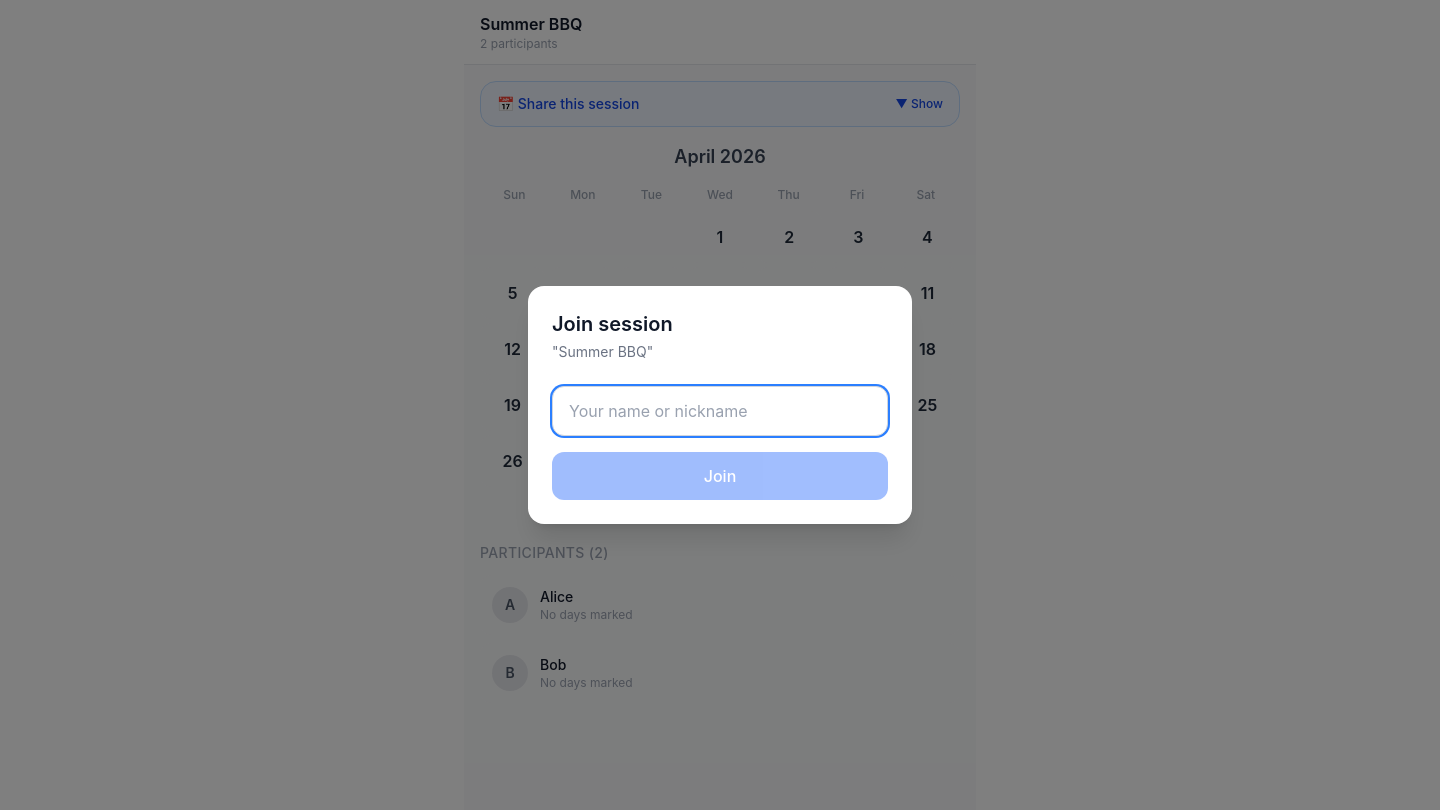
Scenario: Session › removes JoinPrompt after joinSession resolves
Type "Charlie" into the field.
click(720, 411); type("Charlie")  # box 552,386 -> 888,436
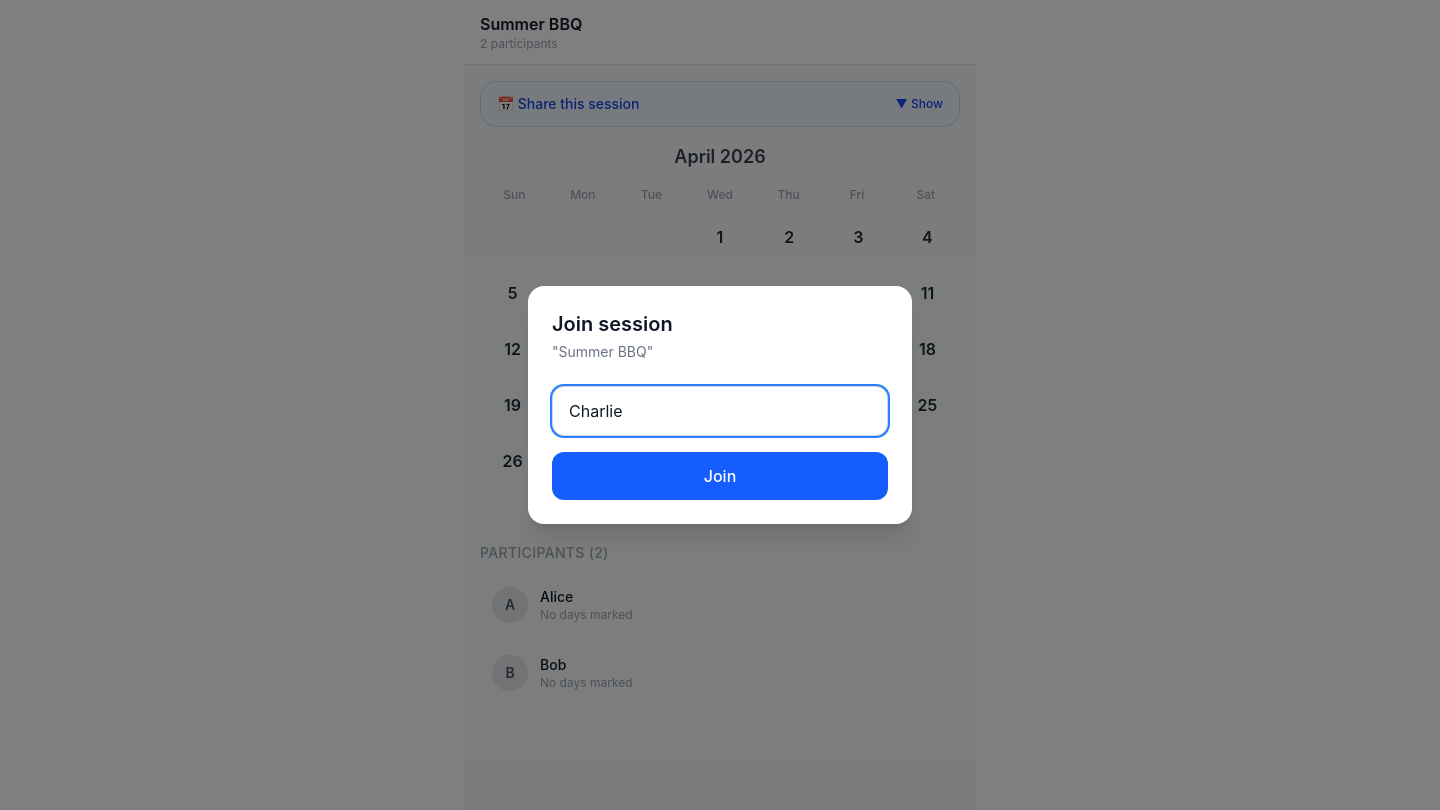
Click the button "Join".
click(720, 476)  # box 552,452 -> 888,500
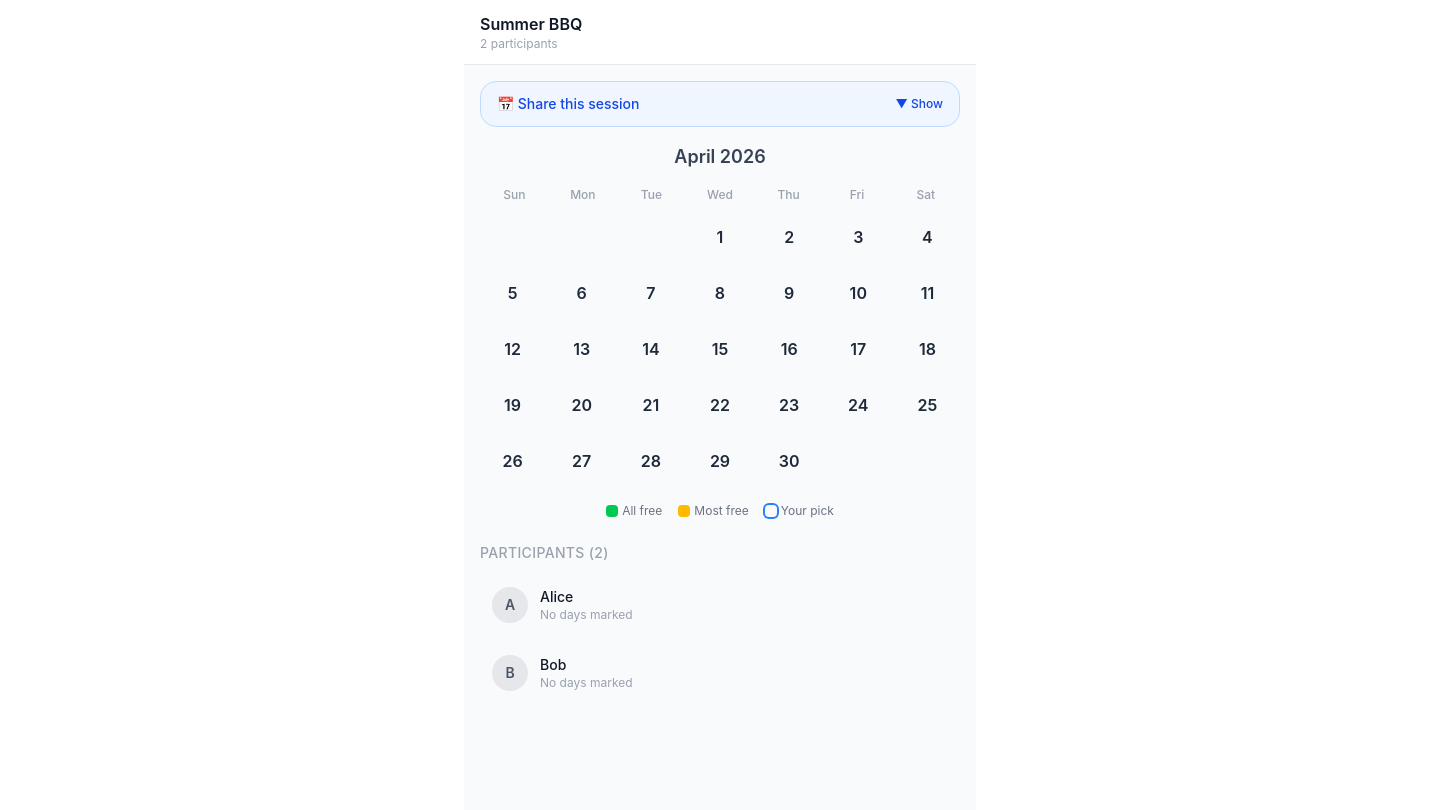
expect the heading "Join session" is gone: met
